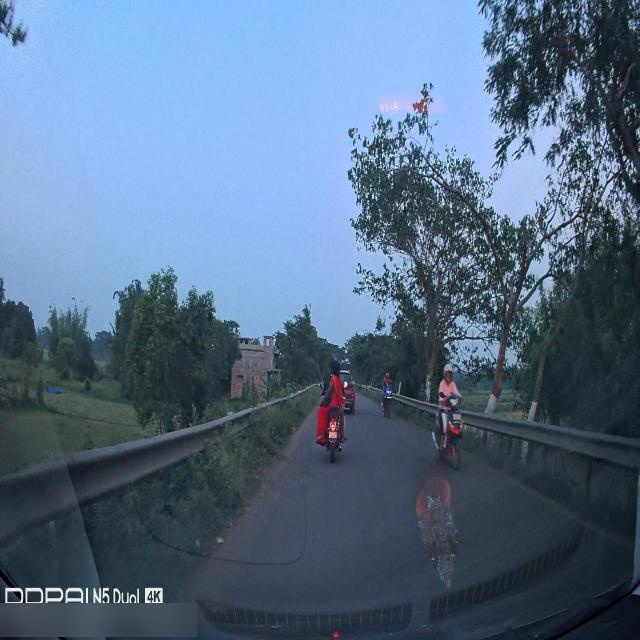pothole: (285, 473, 318, 490)
